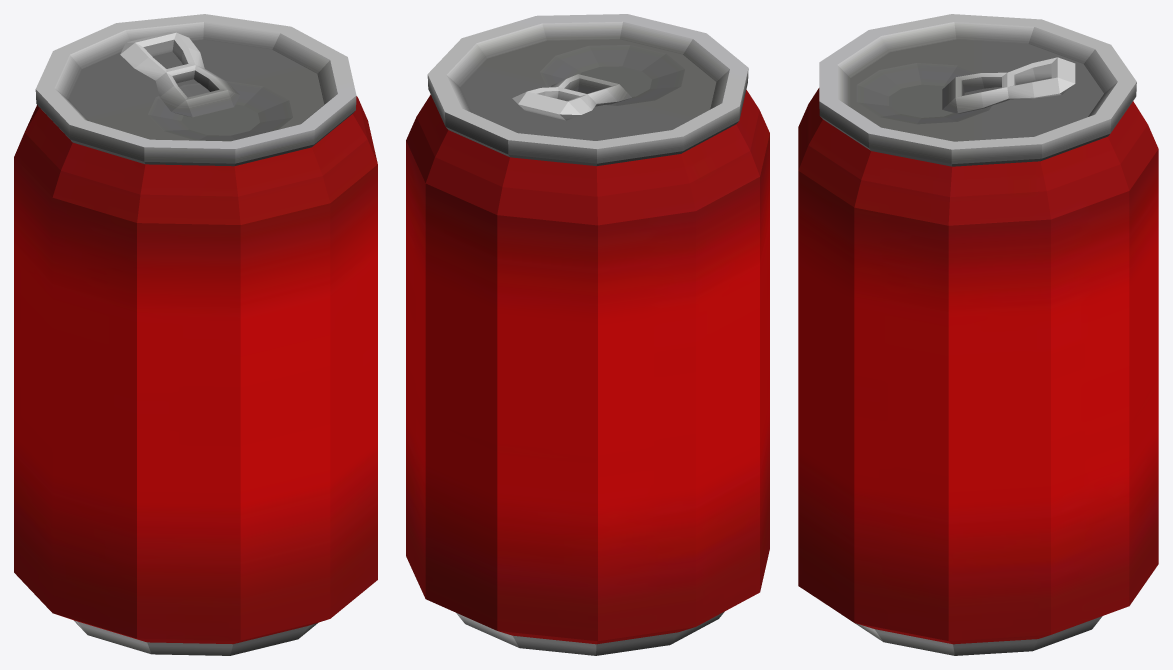
File: junk-SodaCan.glb
The picture shows the model from 3 angles, left to right: view 1: azimuth 30°, elevation 25°; view 2: azimuth 150°, elevation 25°; view 3: azimuth 270°, elevation 25°; orthographic projection.
Visible parts, largest first — view 1: Soda can; view 2: Soda can; view 3: Soda can.
Part boxes in pixels (x1,y1,x2,y2): Soda can: (14,14,377,655); Soda can: (406,14,769,655); Soda can: (798,14,1158,655).
Size of the model in its own units: 0.6189 by 0.9948 by 0.6126.
Materials: 1 (1 with a texture image).
